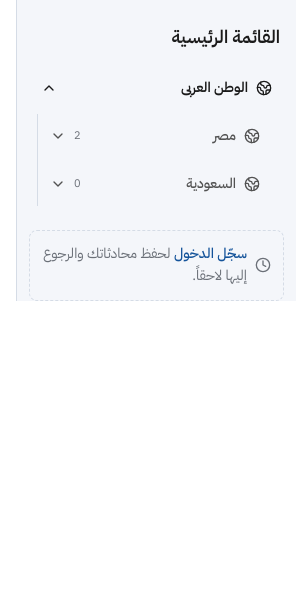
Test: MainSidebar › فشل جلب القوانين لا يُسقط شجرة الدول — القائمة تُظهر رسالة خطأ
Step 1. Click the button "مصر 2" → [155, 136], box [38,114,272,158]
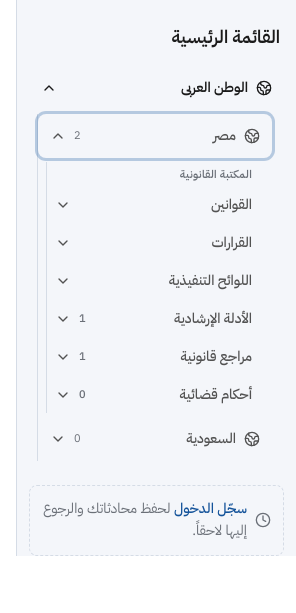
Step 2. Click the button "القوانين" → [154, 205], box [47,187,260,223]
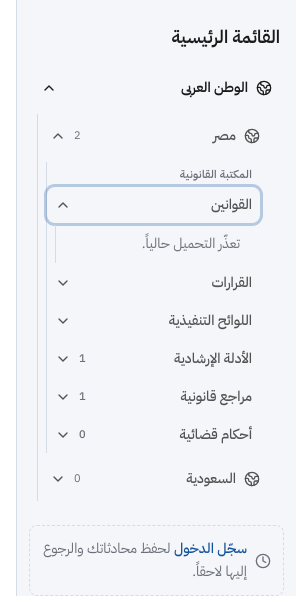
Expected: the text "تعذّر التحميل حالياً." is shown, [142,233,240,254]
